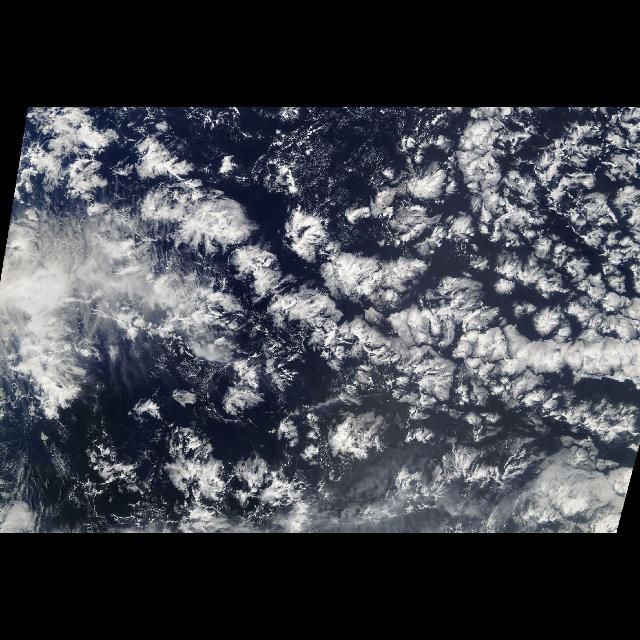Flower: (201, 109, 639, 521)
